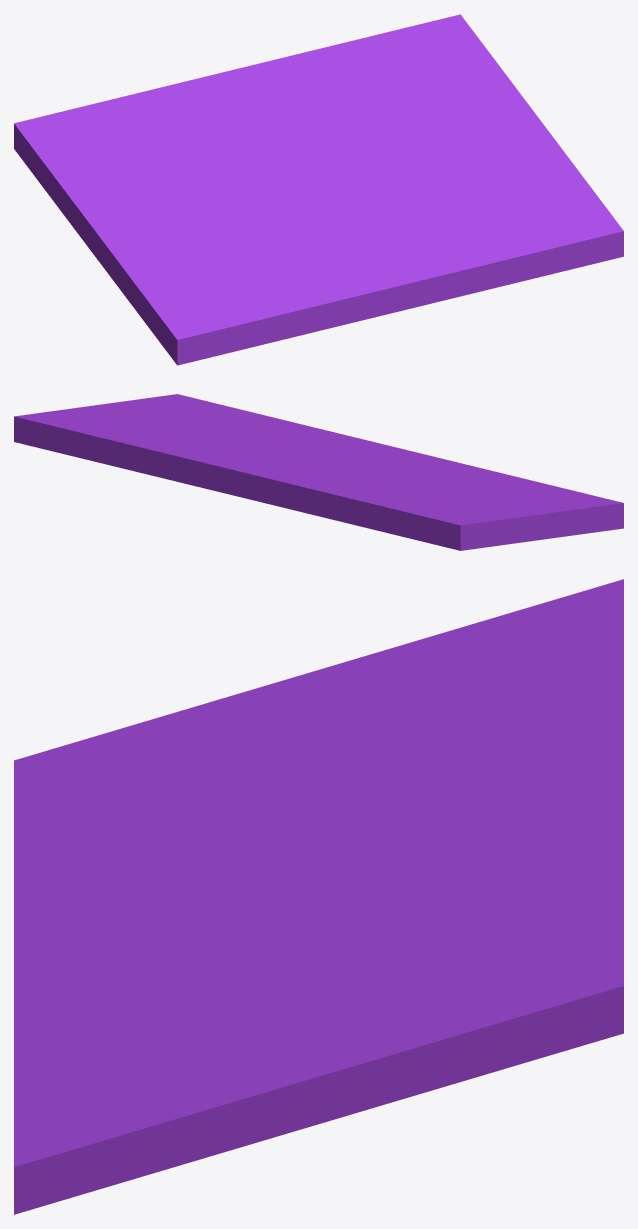
Rendered from Window_161_chunks.fbx.
3 views of the same model, one above another, from view 1: azimuth 30°, elevation 25°; view 2: azimuth 150°, elevation 25°; view 3: azimuth 270°, elevation 25° (orthographic). The views are drawn at different scales.
Parts seen in each view (by area): view 1: Window_161_2, Window_161_0, Window_161_3; view 2: Window_161_3, Window_161_2, Window_161_0; view 3: Window_161_2, Window_161_3, Window_161_0.
Part boxes in pixels (x1=…): Window_161_2: x1=326, y1=14, x2=623, y2=292; Window_161_0: x1=78, y1=181, x2=475, y2=365; Window_161_3: x1=14, y1=43, x2=343, y2=232; Window_161_3: x1=130, y1=445, x2=531, y2=550; Window_161_2: x1=14, y1=394, x2=325, y2=473; Window_161_0: x1=320, y1=430, x2=623, y2=541; Window_161_2: x1=14, y1=879, x2=623, y2=1214; Window_161_3: x1=304, y1=579, x2=623, y2=880; Window_161_0: x1=14, y1=658, x2=358, y2=1031.
Bounding box in the file's own units: 1838 × 482 × 1165.
